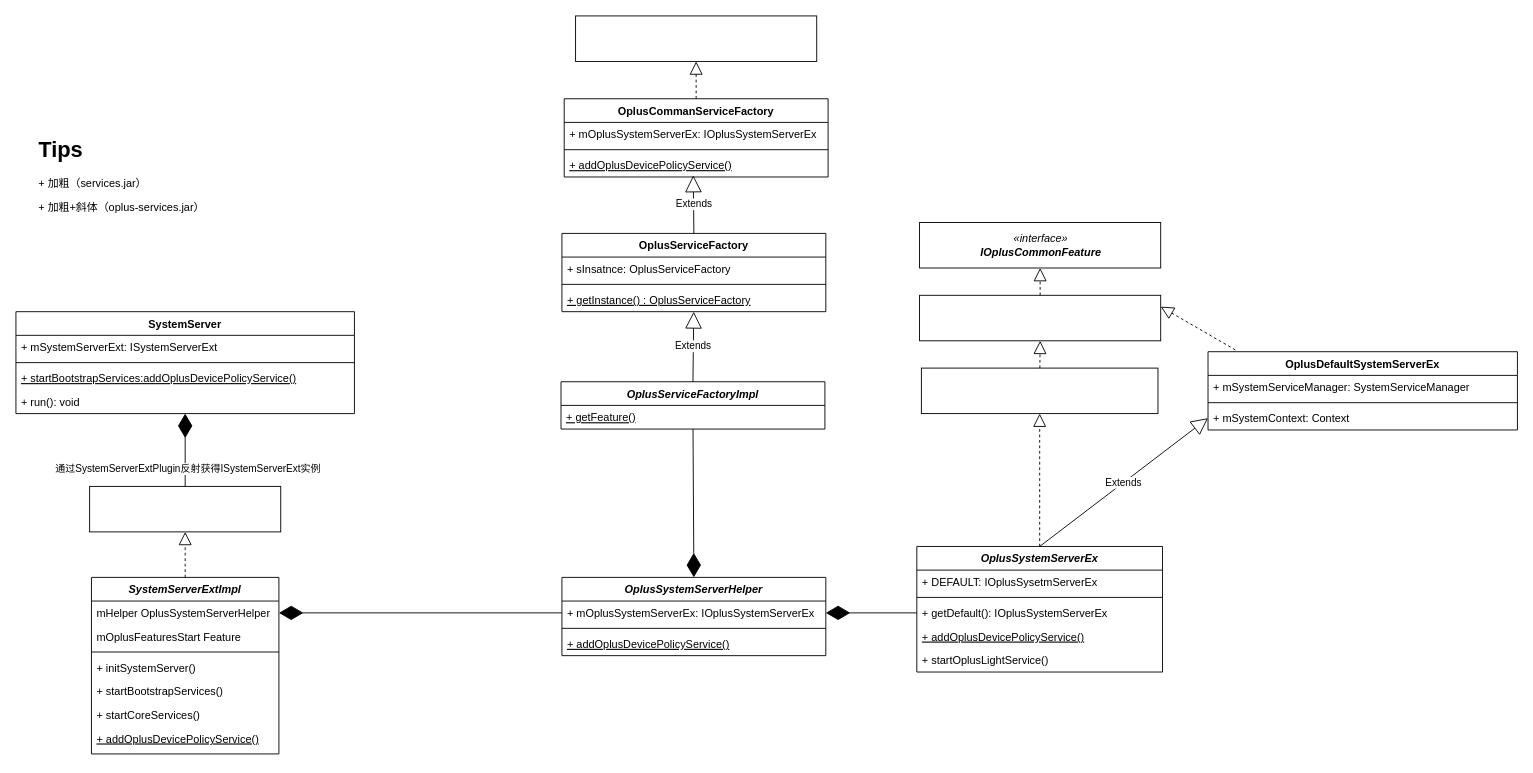
Image size: 1533x773. Some labels were removed from this diagram. The centre of each missing label's shape, as x and y in pixels:
"«interface» IOplusCommonFactory" belongs at point (696, 38).
"«interface» IOplusCommonSysemServerEx" belongs at point (1040, 317).
"«interface» IOplusSystemServerEx" belongs at point (1039, 390).
"«interface» ISystemServerExt" belongs at point (185, 508).
